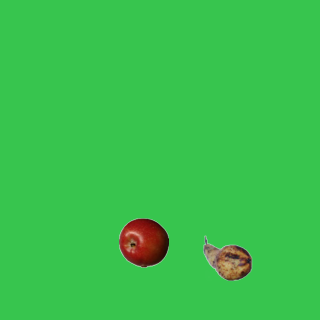Apple Braeburn: (118, 217, 168, 267)
Pear Abate: (202, 233, 252, 283)
